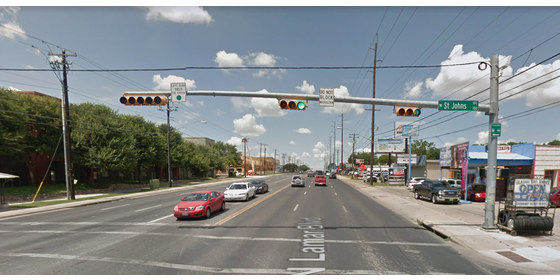do not block intersection sign: (318, 87, 337, 107)
green bus sign: (490, 121, 504, 142)
left turn yield on green sign: (170, 80, 190, 105)
street name sign: (436, 98, 477, 113)
